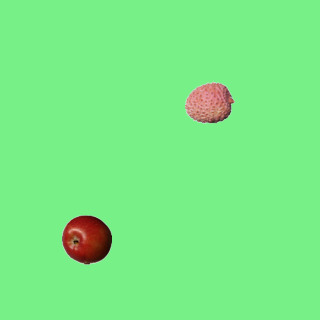Apple Braeburn: (61, 214, 111, 264)
Lychee: (184, 77, 234, 127)
